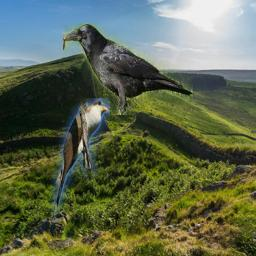Crow: (63, 23, 193, 115)
Cuckoo: (50, 98, 110, 228)
